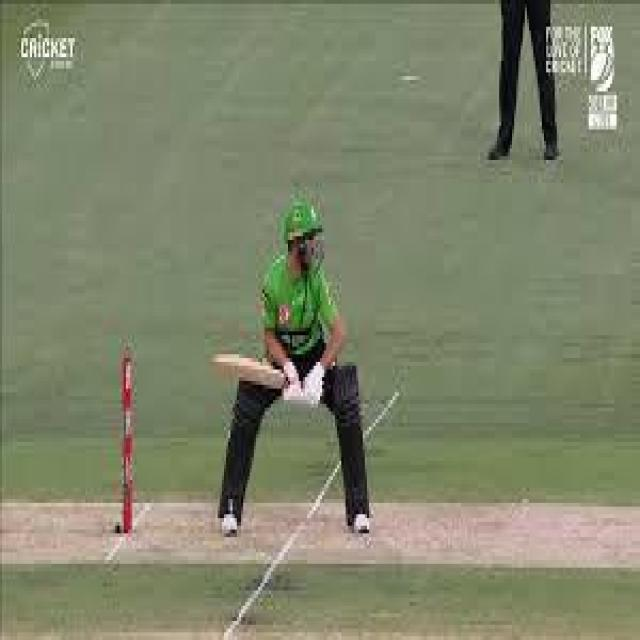bat: (204, 348, 290, 395)
toe: (210, 348, 224, 380)
